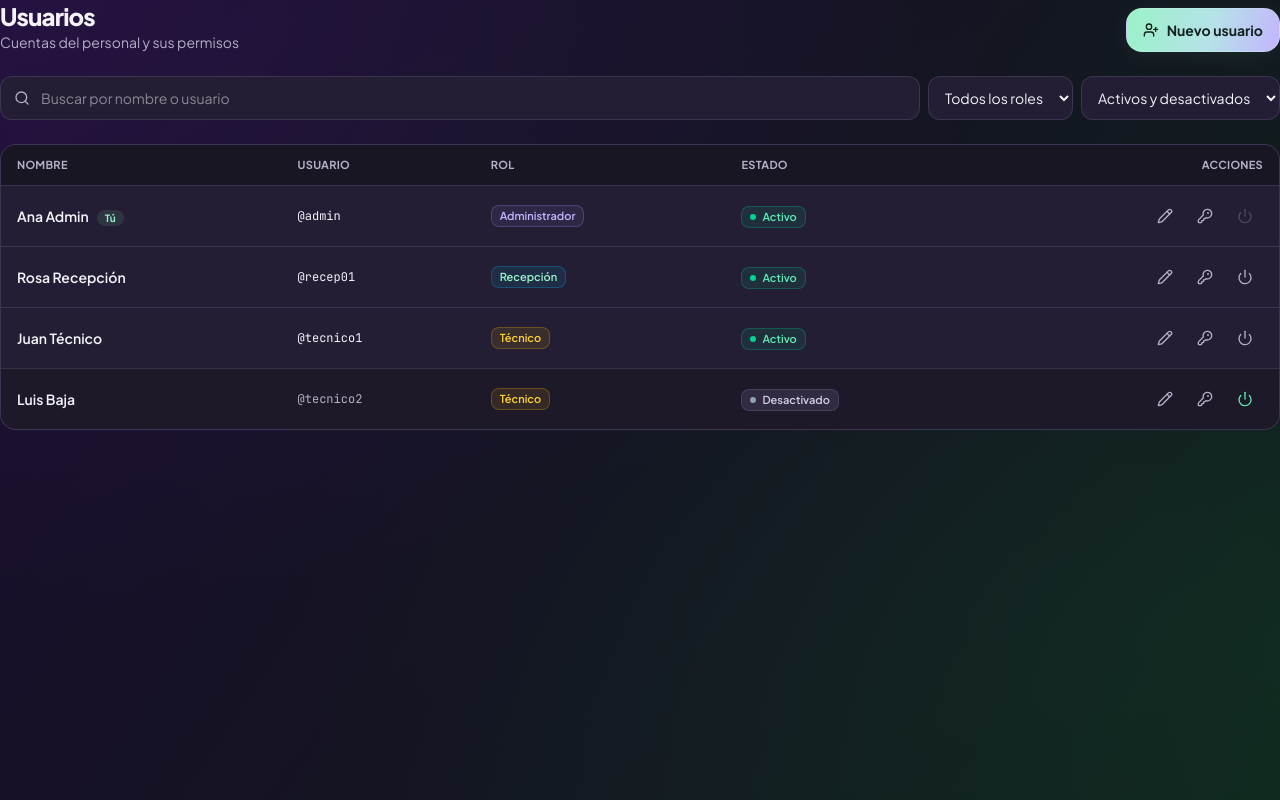
UsersPage create modal › validates required fields and the password rules before sending [008/RF-2.1] [008/RF-2.3]
Expected: the text "Rosa Recepción" is shown, top-left (1, 246), bottom-right (282, 307)
Click the button "Nuevo usuario" at point(1203, 30), box top-left (1126, 8), bottom-right (1279, 52)
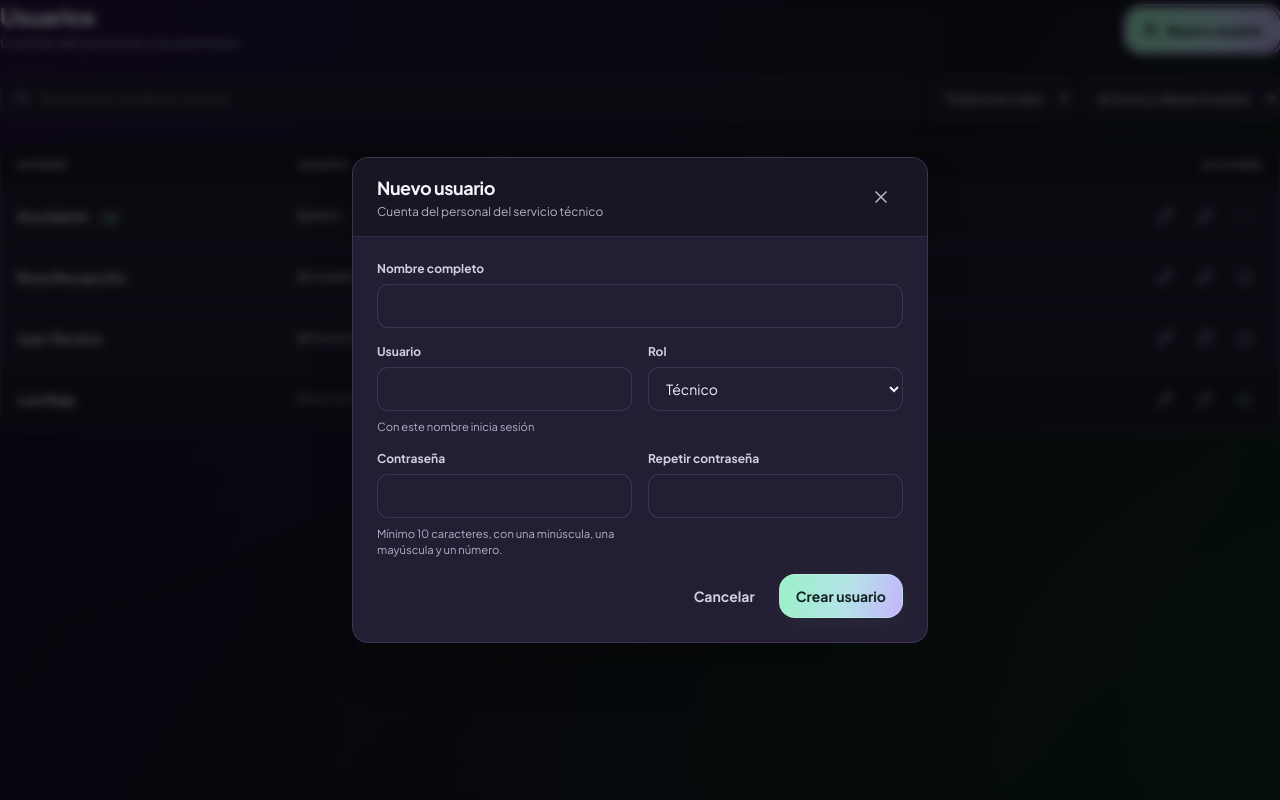
Type "corta" into the password field labelled "Contraseña" at point(504, 496), box top-left (377, 474), bottom-right (632, 518)
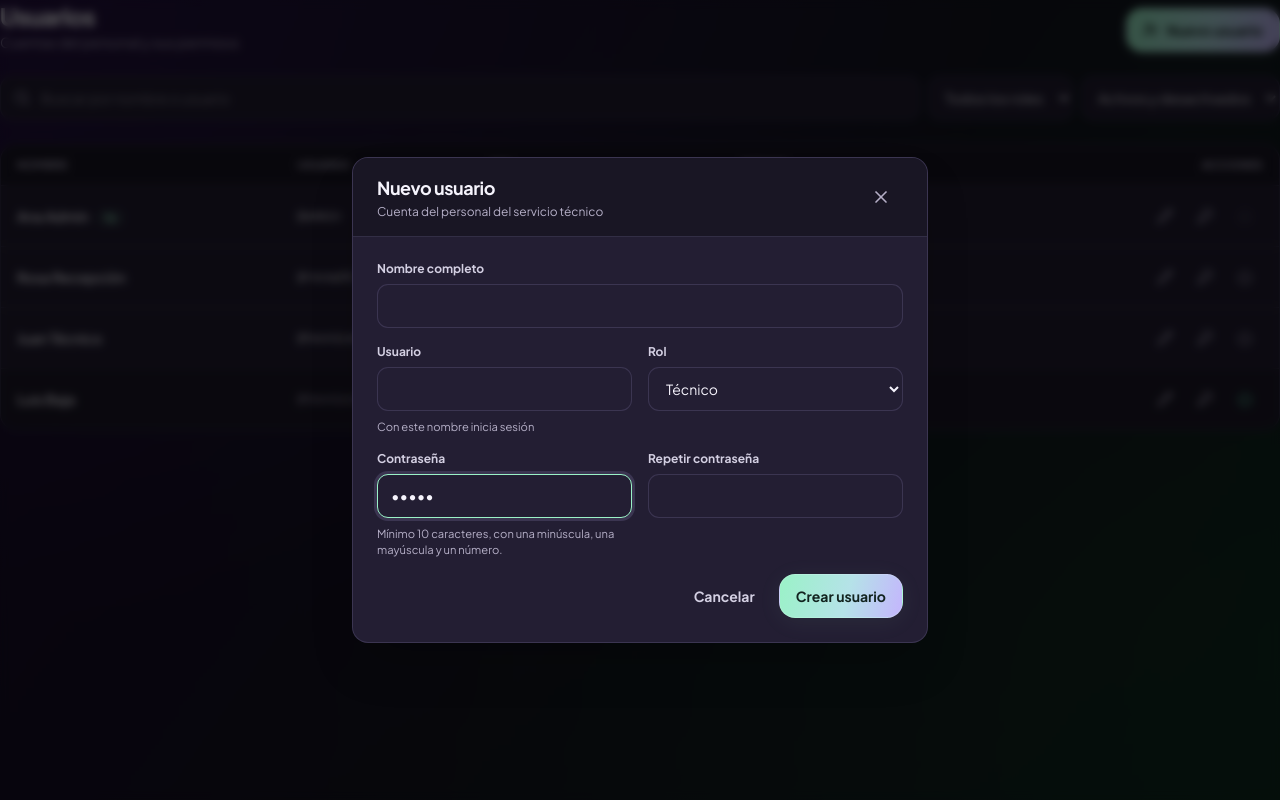
Type "otra" into the password field labelled "Repetir contraseña" at point(776, 496), box top-left (648, 474), bottom-right (903, 518)
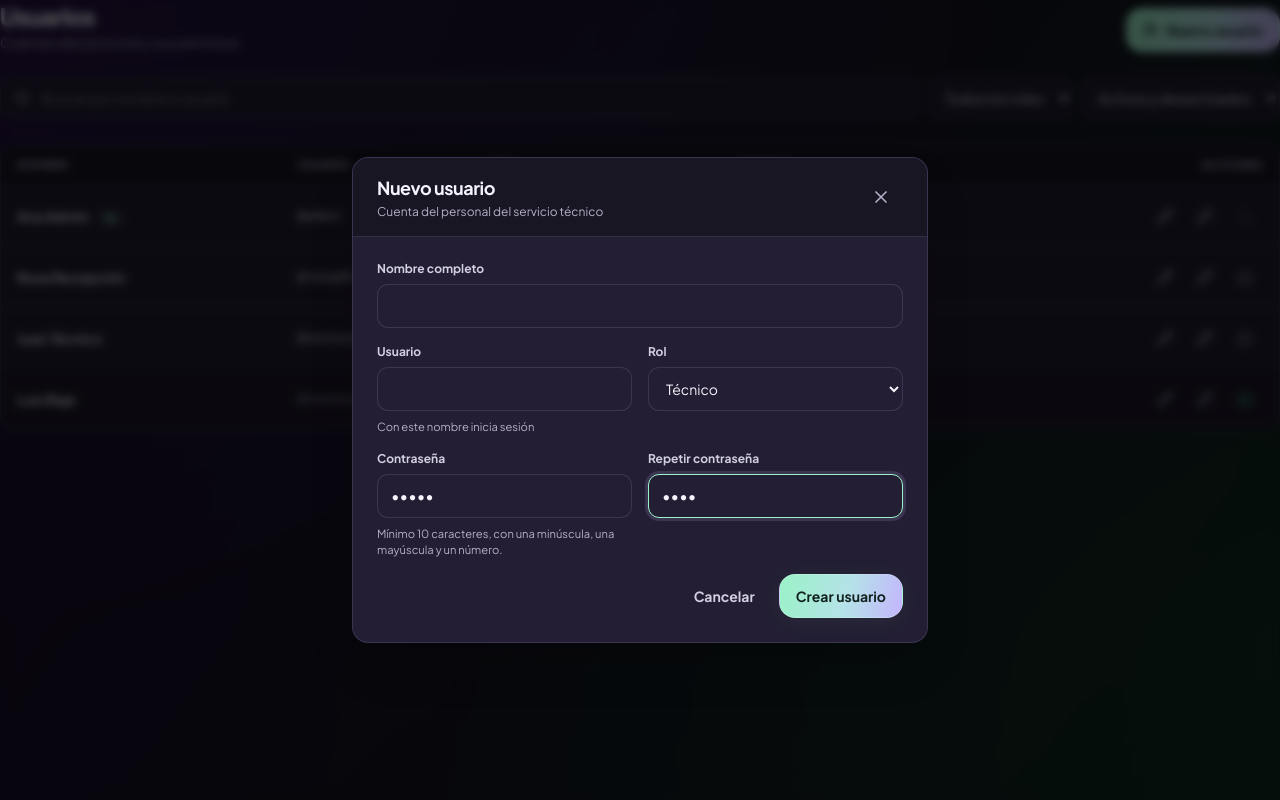
Click the button "Crear usuario" at point(841, 596), box top-left (779, 574), bottom-right (903, 618)
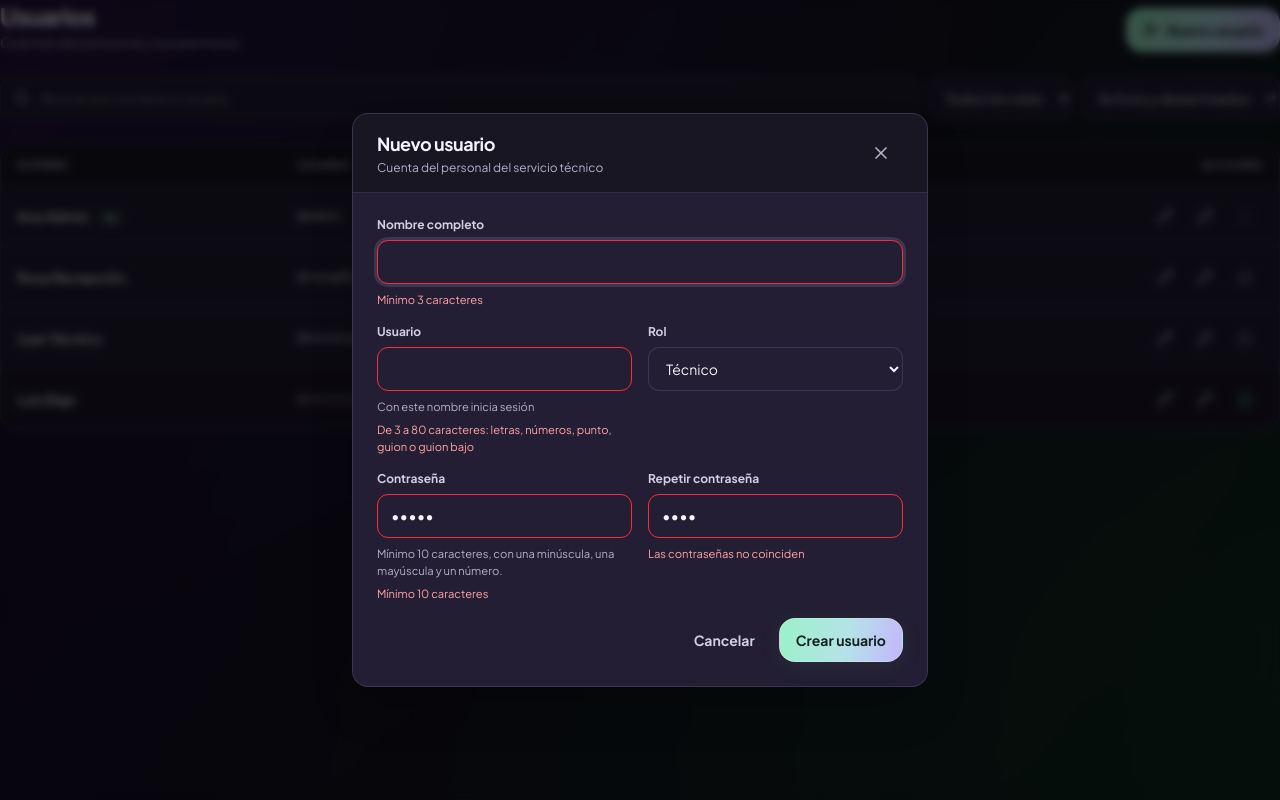
Expected: the text "Mínimo 3 caracteres" is shown, top-left (377, 292), bottom-right (483, 306)
Expected: the text "De 3 a 80 caracteres: letras, números, punto, guion o guion bajo" is shown, top-left (377, 421), bottom-right (632, 455)
Expected: the text "Mínimo 10 caracteres" is shown, top-left (377, 586), bottom-right (488, 600)
